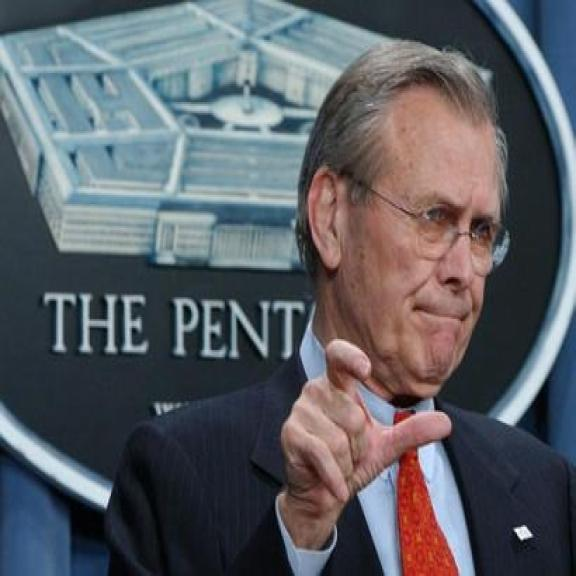face: (310, 93, 502, 404)
